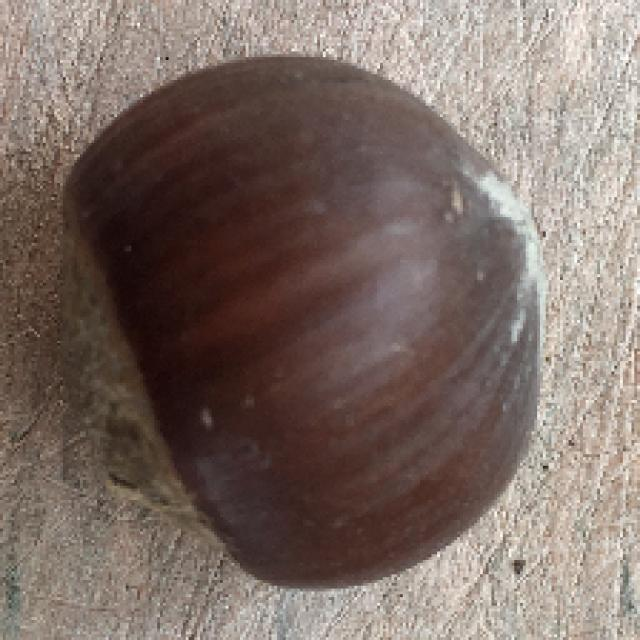DamagedHazelnut: (64, 51, 546, 590)
